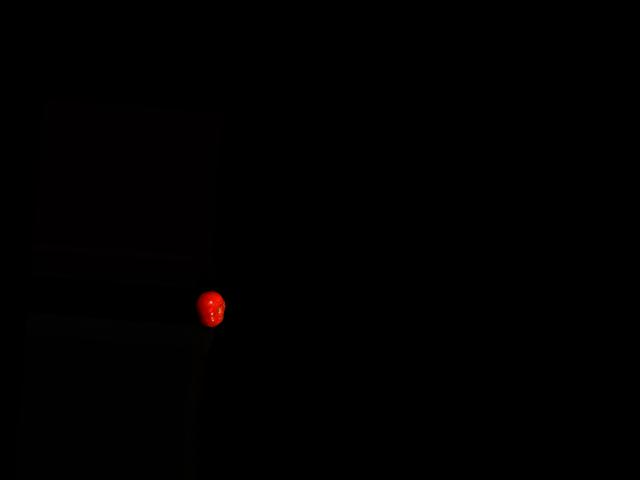tomato: (193, 289, 226, 328)
